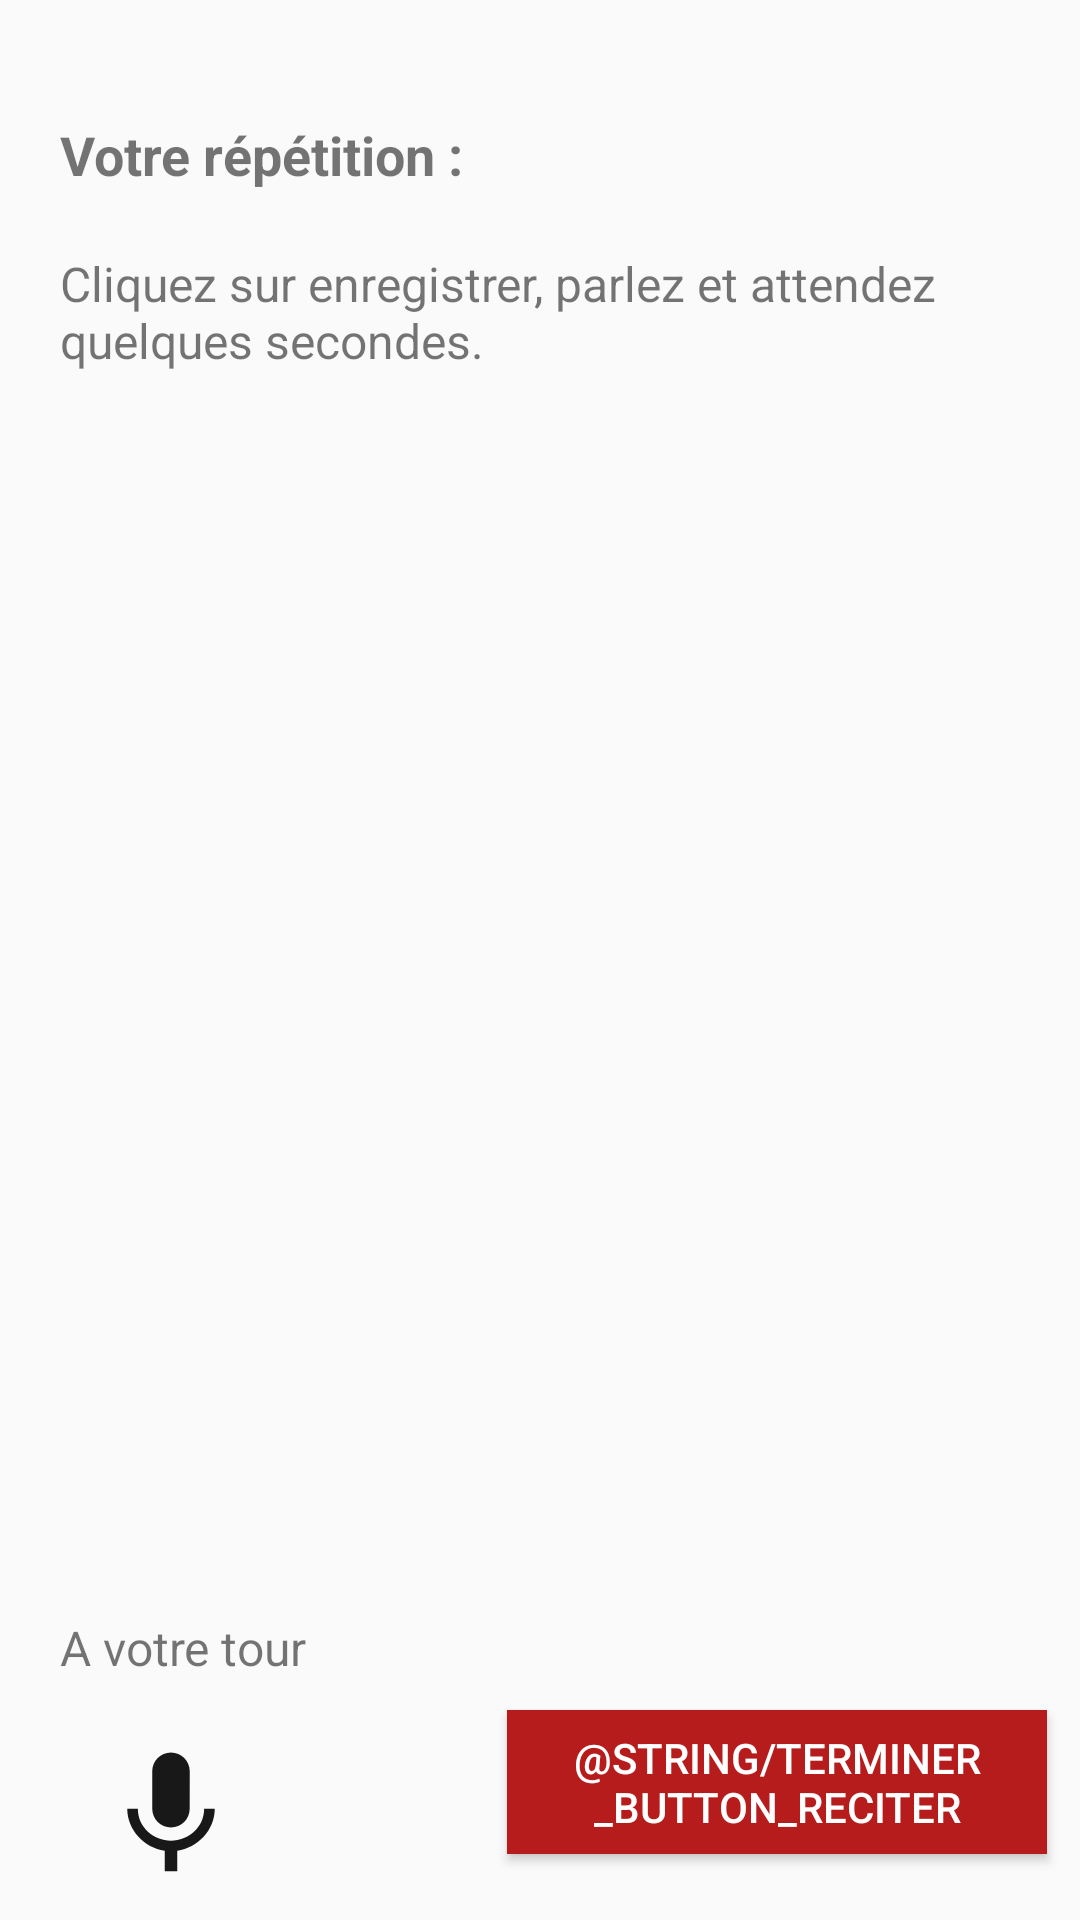

Icon bounding boxes for this 1080px×1920px phone screenshot, format Rect(x1, y1, x2, y2):
mic: Rect(127, 1752, 215, 1872)
